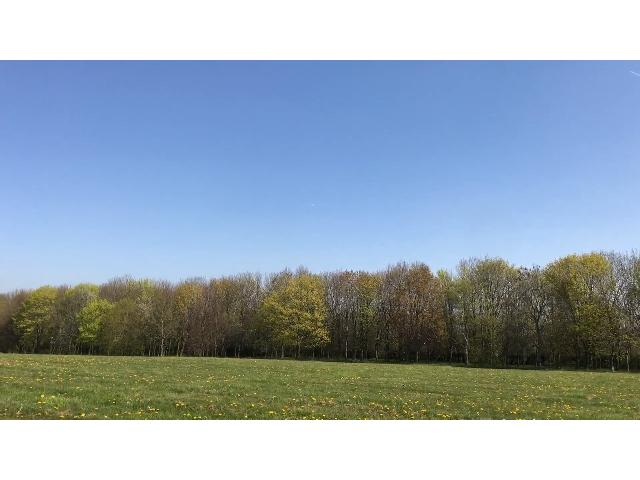Anti-Drone: (304, 199, 324, 210)
